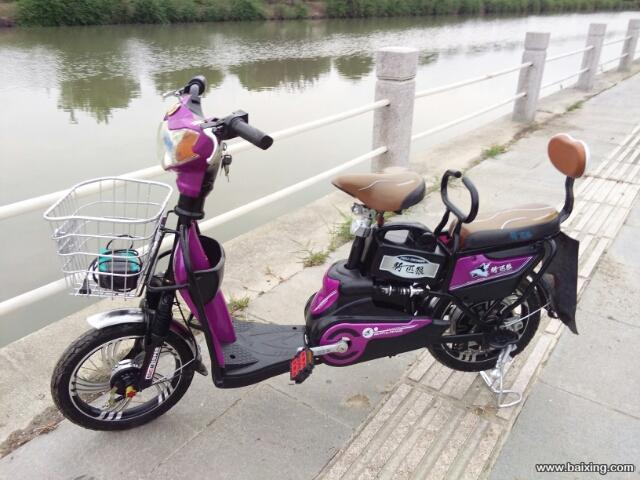电动车: (40, 64, 599, 442)
